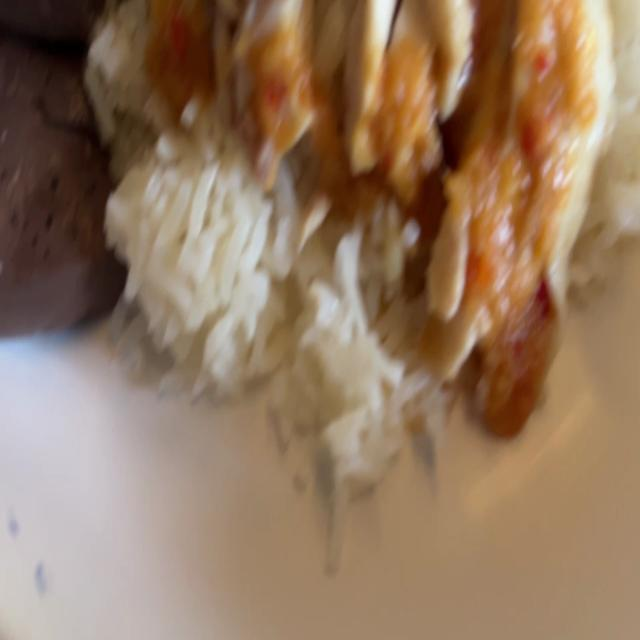boiled_chicken: (154, 0, 615, 405)
boiled_chicken_blood_jelly: (0, 0, 128, 330)
chicken_rice: (0, 0, 640, 530)
